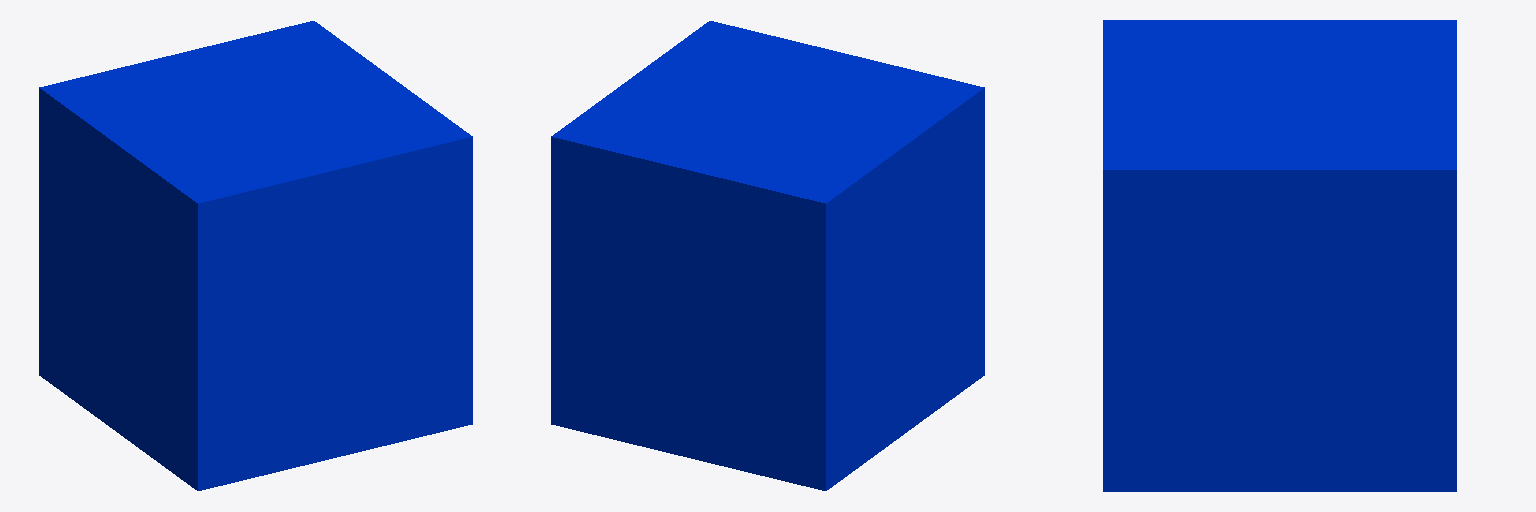
robot.urdf — simple_table:
<?xml version="1.0"?>
<robot name="simple_table">

	<material name="color">
		<color rgba=".01 .26 .87 1"/>
	</material>

	<link name="base_link">
		<visual>
			<geometry>
				<box size="0.05 0.05 0.05"/>
			</geometry>
			<material name="color"/>
		</visual>
		<collision>
			<geometry>
				<box size="0.05 0.05 0.05"/>
			</geometry>
		</collision>
	</link>
</robot>

--- Render facts (derived) ---
The picture shows the robot from 3 angles, left to right: view 1: azimuth 30°, elevation 25°; view 2: azimuth 150°, elevation 25°; view 3: azimuth 270°, elevation 25°; orthographic projection.
Robot: simple_table — 1 links, 0 joints (none); root link base_link; default pose: all joints at 0.
Visible links, largest first — view 1: base_link; view 2: base_link; view 3: base_link.
Boxes of the visible links, x1,y1,x2,y2 form: base_link: (39, 21, 472, 490); base_link: (551, 21, 984, 490); base_link: (1103, 20, 1456, 491).
Bounding box of the posed robot: 0.05 × 0.05 × 0.05 m (x, y, z).
Geometry: primitives only (box / cylinder / sphere), no mesh files.